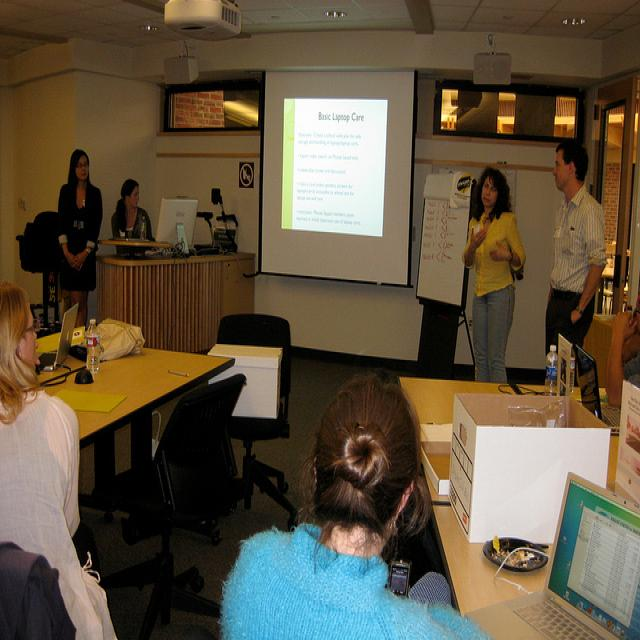chair: (219, 313, 298, 527), (0, 539, 81, 640), (14, 212, 61, 326)
dining table: (17, 338, 238, 440), (400, 378, 512, 427)
